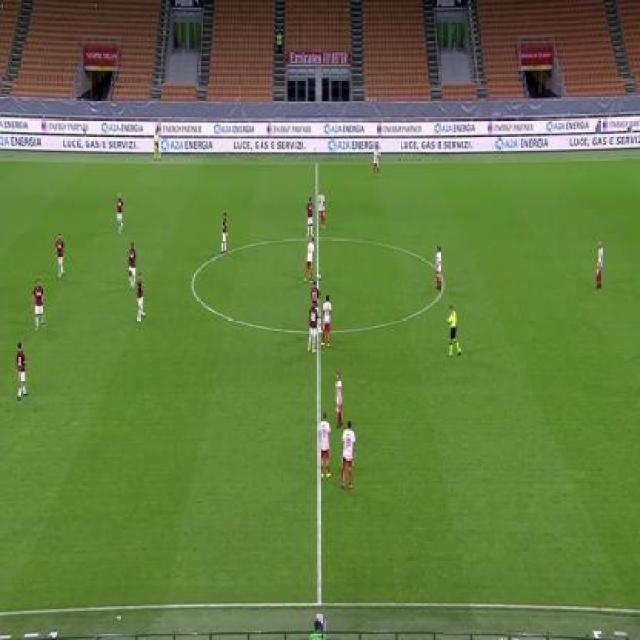ball: (315, 272, 320, 280)
player: (338, 418, 357, 491), (317, 410, 333, 484), (306, 280, 320, 356), (31, 276, 47, 335), (15, 342, 31, 401), (446, 302, 462, 358), (321, 292, 334, 348), (134, 269, 147, 323), (303, 235, 316, 283), (56, 230, 67, 278), (115, 190, 126, 236), (594, 236, 603, 287), (335, 369, 343, 426), (127, 239, 136, 287), (220, 210, 229, 256), (434, 241, 442, 289), (306, 195, 315, 237), (317, 188, 326, 228), (372, 144, 381, 178), (153, 129, 161, 163)
